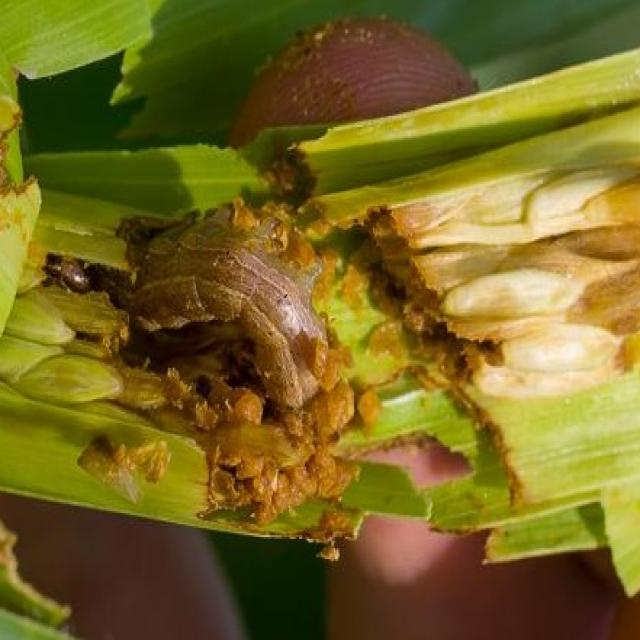Fall-armyworm: (98, 228, 331, 413)
